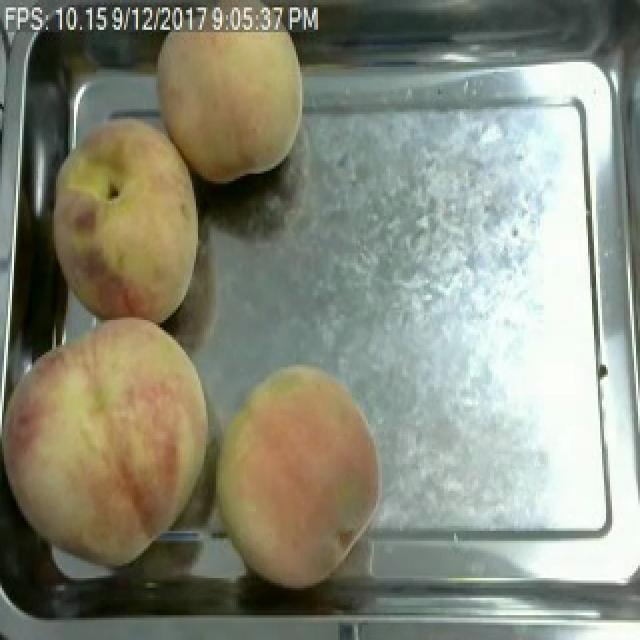Fruit: (0, 305, 224, 586), (196, 352, 392, 603), (38, 107, 212, 335), (144, 30, 316, 191)
